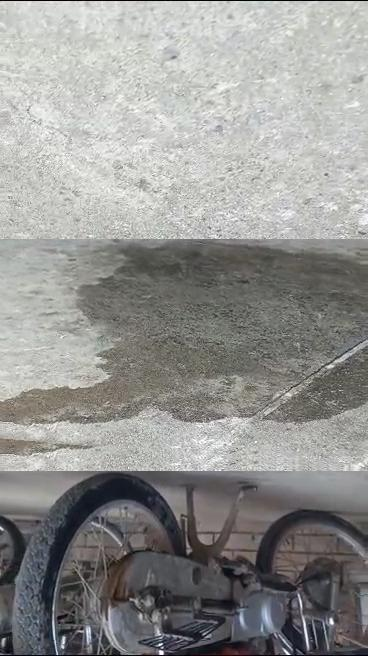water accumulation: (0, 238, 368, 426), (0, 438, 91, 456)
